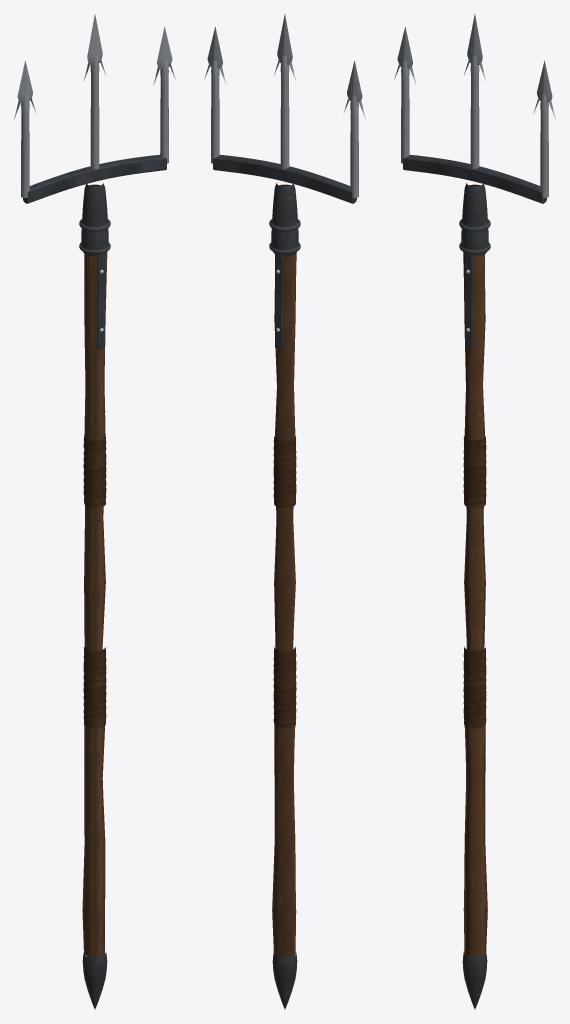
File: trident.lod1.glb
The picture shows the model from 3 angles, left to right: view 1: azimuth 30°, elevation 25°; view 2: azimuth 150°, elevation 25°; view 3: azimuth 330°, elevation 25°; orthographic projection.
Parts seen in each view (by area): view 1: wood / oiled hardwood, darksteel / oil-blackened fittings, steel / forged blade steel, leather / oiled leather wrap; view 2: wood / oiled hardwood, darksteel / oil-blackened fittings, steel / forged blade steel, leather / oiled leather wrap; view 3: wood / oiled hardwood, darksteel / oil-blackened fittings, steel / forged blade steel, leather / oiled leather wrap.
Boxes of the visible parts, x1,y1,x2,y2 form: wood / oiled hardwood: (82,184,107,956); darksteel / oil-blackened fittings: (23,154,166,1009); steel / forged blade steel: (16,14,173,197); leather / oiled leather wrap: (83,436,106,728); wood / oiled hardwood: (272,184,296,956); darksteel / oil-blackened fittings: (213,154,356,1009); steel / forged blade steel: (206,14,363,197); leather / oiled leather wrap: (273,436,296,728); wood / oiled hardwood: (463,184,487,956); darksteel / oil-blackened fittings: (403,154,546,1009); steel / forged blade steel: (396,14,553,197); leather / oiled leather wrap: (463,436,486,728).
Bounding box in the file's own units: 0.348 × 2.05 × 0.0592.
7 materials, 5 textured.
